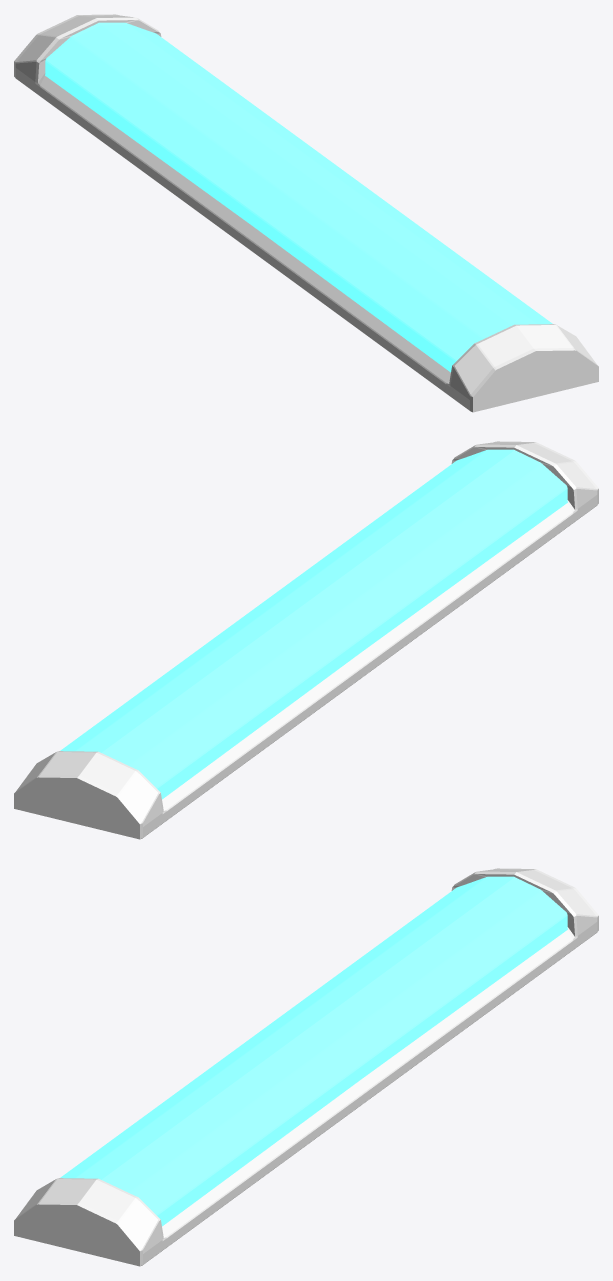
Rendered from LampePlafond.fbx.
The picture shows the model from 3 angles, top to bottom: view 1: azimuth 30°, elevation 25°; view 2: azimuth 150°, elevation 25°; view 3: azimuth 330°, elevation 25°; orthographic projection.
Parts seen in each view (by area): view 1: Lampe; view 2: Lampe; view 3: Lampe.
Boxes of the visible parts, left/top/right/bottom form: Lampe: left=14, top=14, right=598, bottom=412; Lampe: left=14, top=441, right=598, bottom=839; Lampe: left=14, top=868, right=598, bottom=1266.
Bounding box in the file's own units: 32 × 13.98 × 200.
